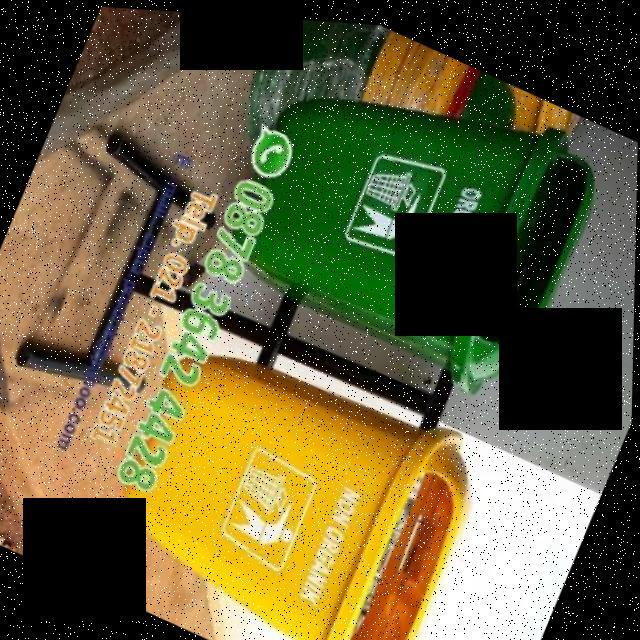bin: (189, 10, 629, 424), (61, 284, 510, 640)
